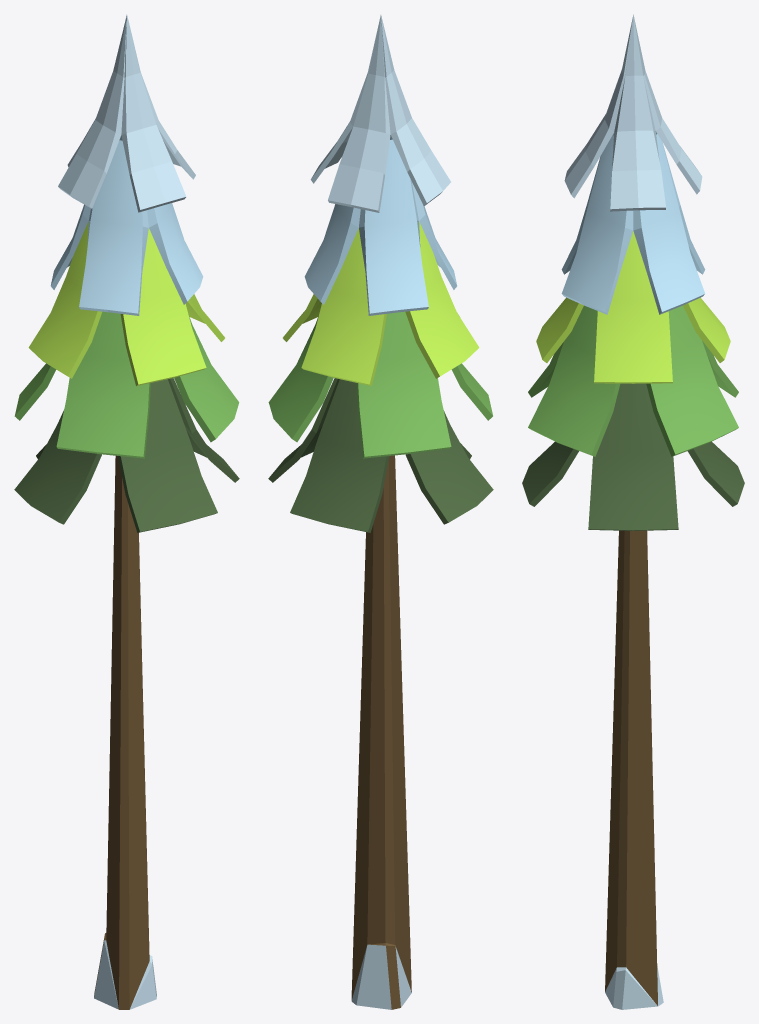
Rendered from model_polytope_snow_fern04.fbx.
3 renders of one model, left to right at view 1: azimuth 30°, elevation 25°; view 2: azimuth 150°, elevation 25°; view 3: azimuth 270°, elevation 25°, orthographic.
Visible parts, largest first — view 1: model_polytope_snow_fern04; view 2: model_polytope_snow_fern04; view 3: model_polytope_snow_fern04.
Part boxes in pixels (<box>): model_polytope_snow_fern04: <box>14,15,239,1009</box>; model_polytope_snow_fern04: <box>268,15,493,1009</box>; model_polytope_snow_fern04: <box>522,14,744,1009</box>.
Bounding box in the file's own units: 202 × 987 × 202.
1 material, 1 textured.
